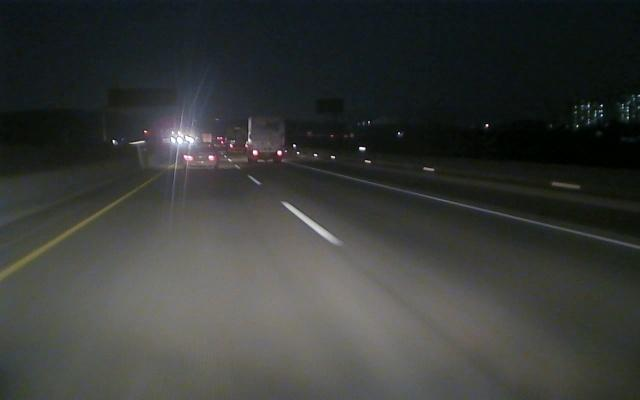lane: (328, 173, 638, 251), (1, 180, 150, 280), (251, 178, 345, 245)
